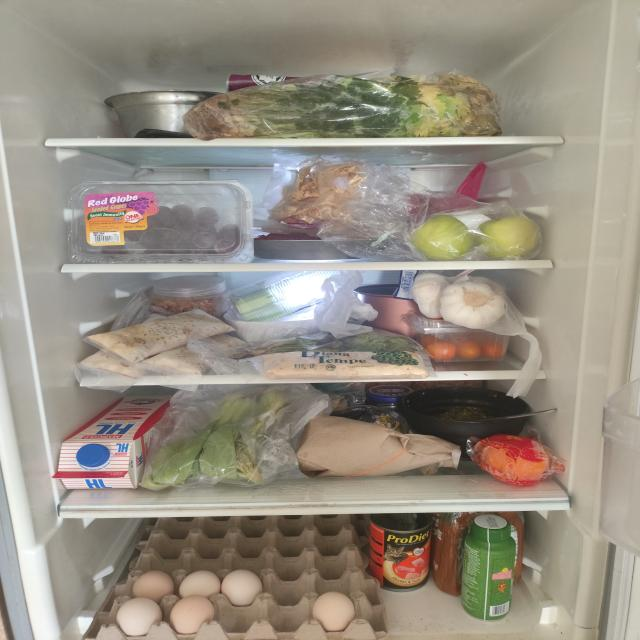apple: (412, 213, 473, 260), (476, 215, 535, 259)
egg: (84, 513, 390, 640)
garlic: (412, 272, 506, 330)
grape: (101, 204, 244, 254)
leafy_greens: (185, 74, 503, 138)
orange: (477, 433, 551, 488)
pakchoy: (144, 390, 291, 490)
tempeh: (80, 309, 247, 380), (262, 351, 429, 380)
